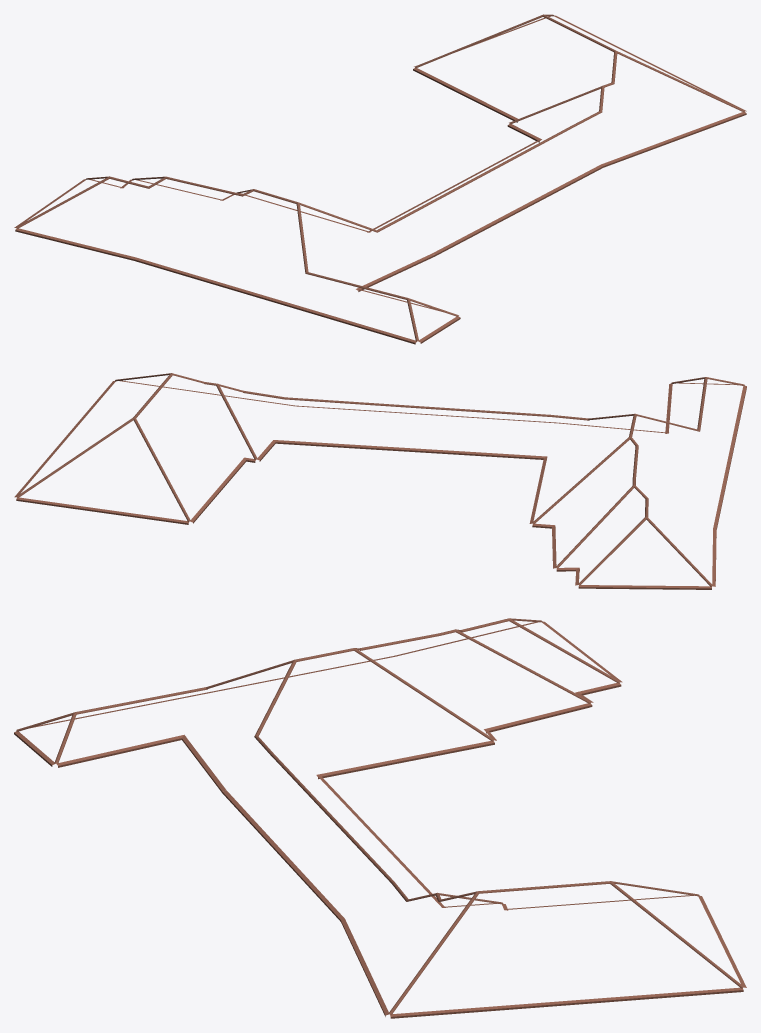
3 renders of one model, top to bottom at view 1: azimuth 30°, elevation 25°; view 2: azimuth 150°, elevation 25°; view 3: azimuth 270°, elevation 25°, orthographic. The views are drawn at different scales.
Parts seen in each view (by area): view 1: detail; view 2: detail; view 3: detail.
Boxes of the visible parts, left/top/right/bottom form: detail: left=14, top=14, right=746, bottom=344; detail: left=14, top=373, right=746, bottom=589; detail: left=14, top=618, right=746, bottom=1018.
Bounding box in the file's own units: 69.34 × 5.94 × 54.25.
